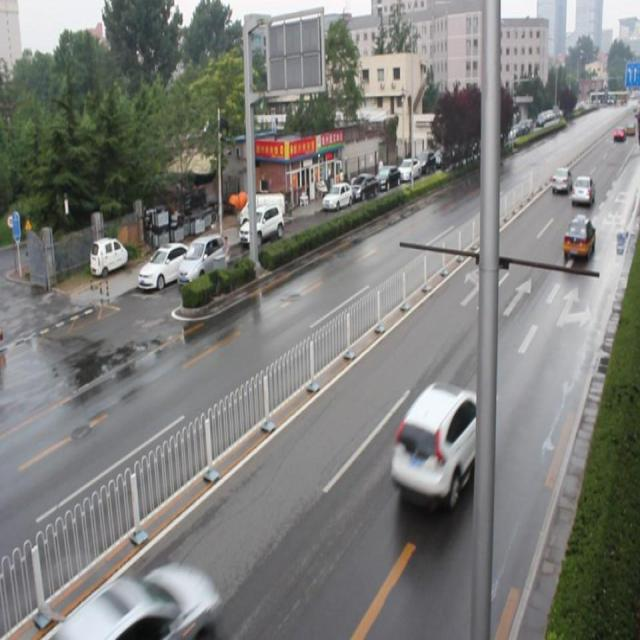car: (391, 381, 489, 508), (562, 214, 594, 261), (570, 174, 594, 206), (548, 168, 571, 193)
